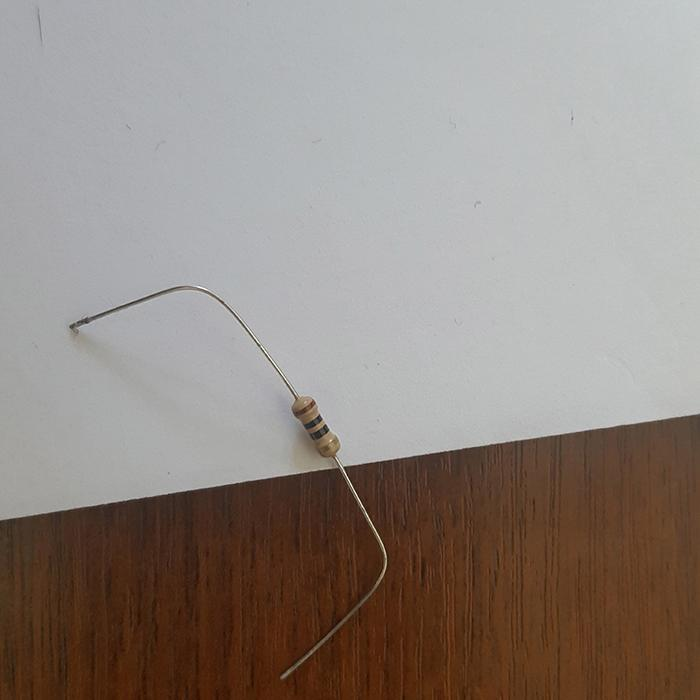resistor: (290, 394, 340, 459)
